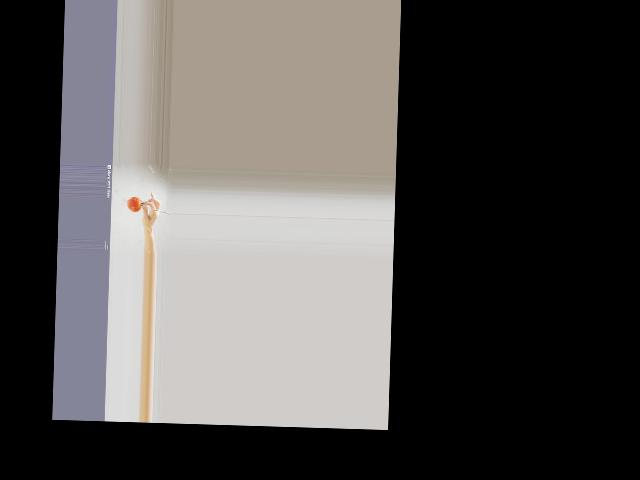tomato: (126, 197, 141, 213)
